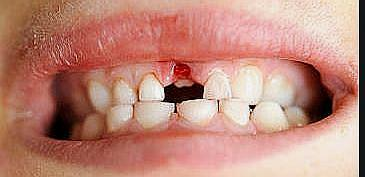Hypodontia: (163, 70, 207, 94)
